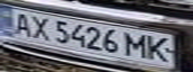2: (84, 24, 103, 53)
4: (66, 21, 87, 48)
5: (48, 18, 72, 45)
6: (100, 27, 124, 55)
A: (6, 10, 36, 37)
K: (142, 34, 178, 63)
M: (124, 30, 151, 60)
X: (24, 13, 54, 42)
